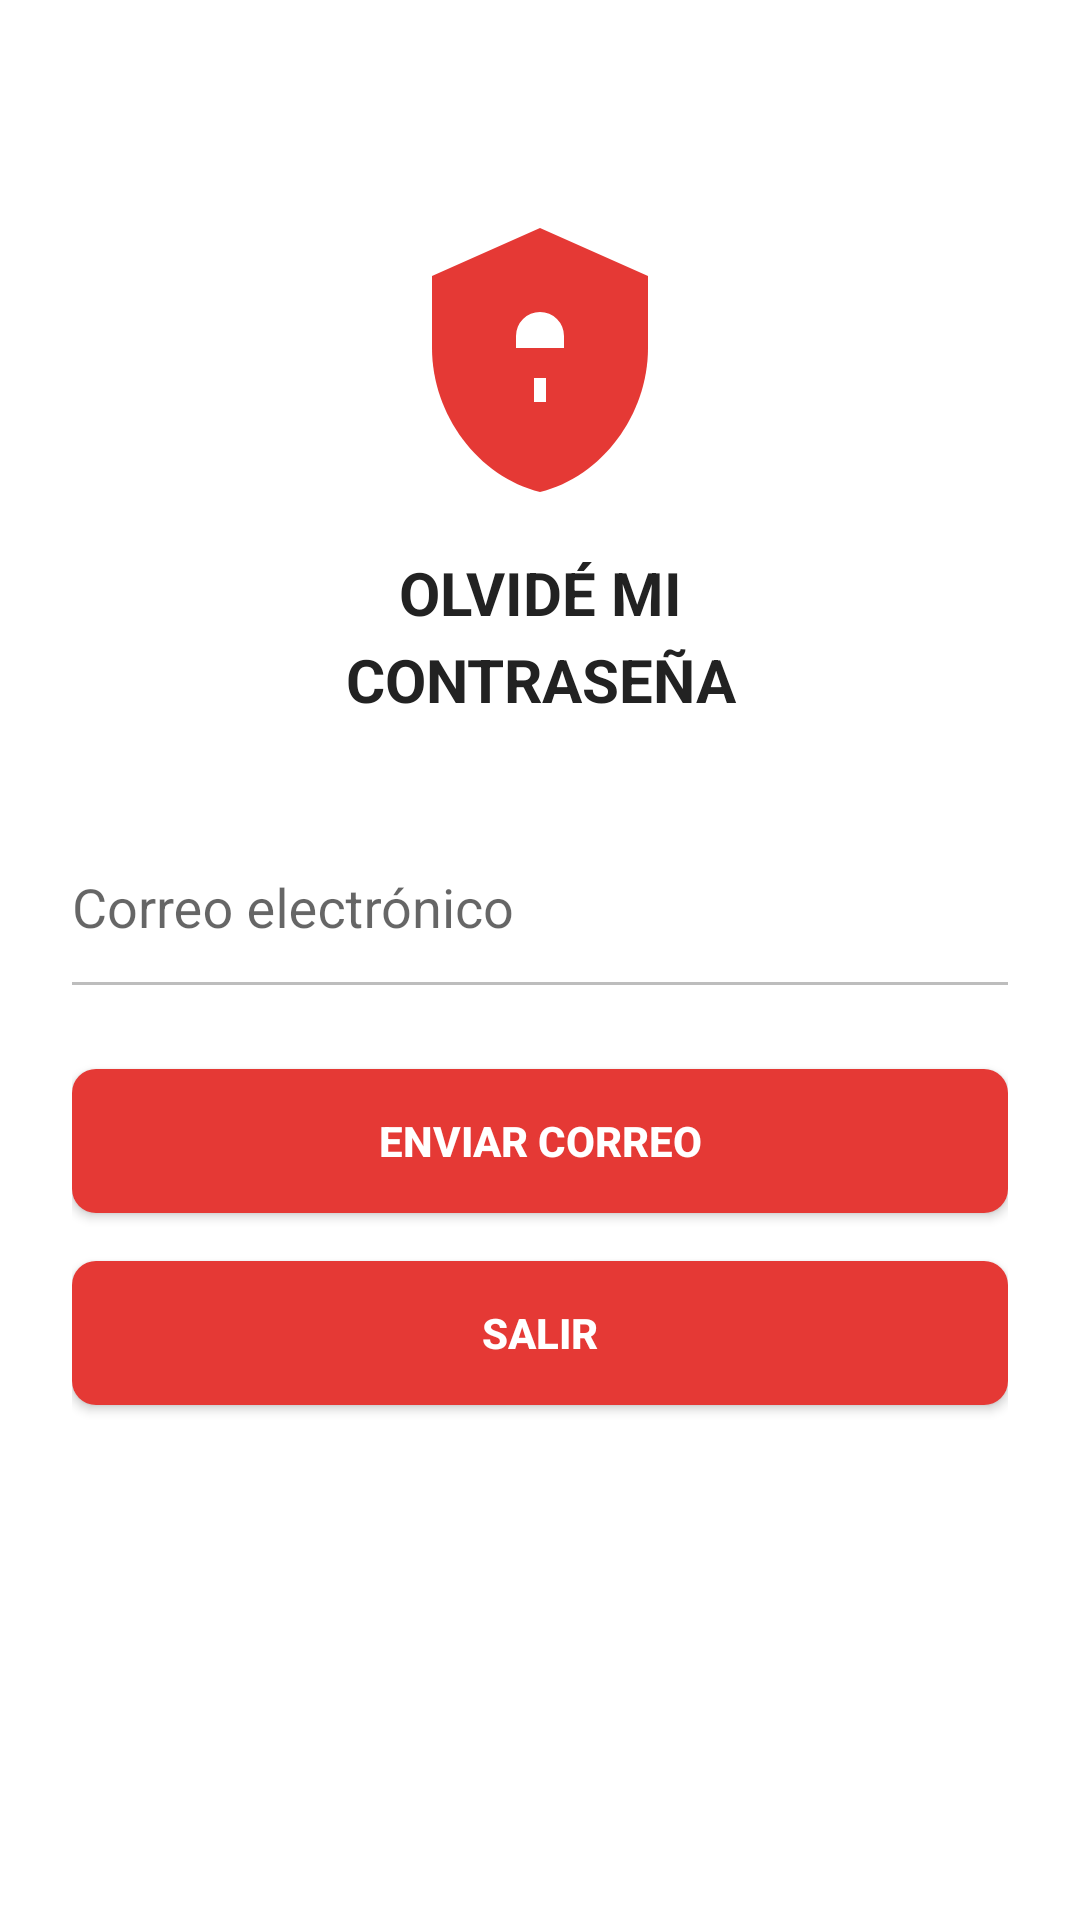

Screen size 1080×1920. Icon name, then its center in pixels as (x,y):
shield lock: (540,360)
